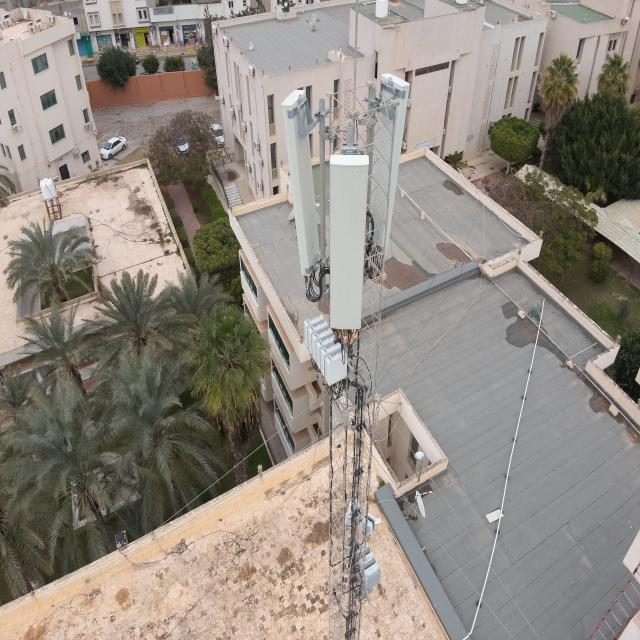antenna: (354, 64, 414, 282), (283, 84, 328, 278), (326, 145, 369, 335)
lighnig-rad: (348, 0, 360, 114)
microware-dish: (340, 493, 379, 540)
power-box: (347, 535, 382, 595)
radio-unit: (299, 312, 352, 392)
